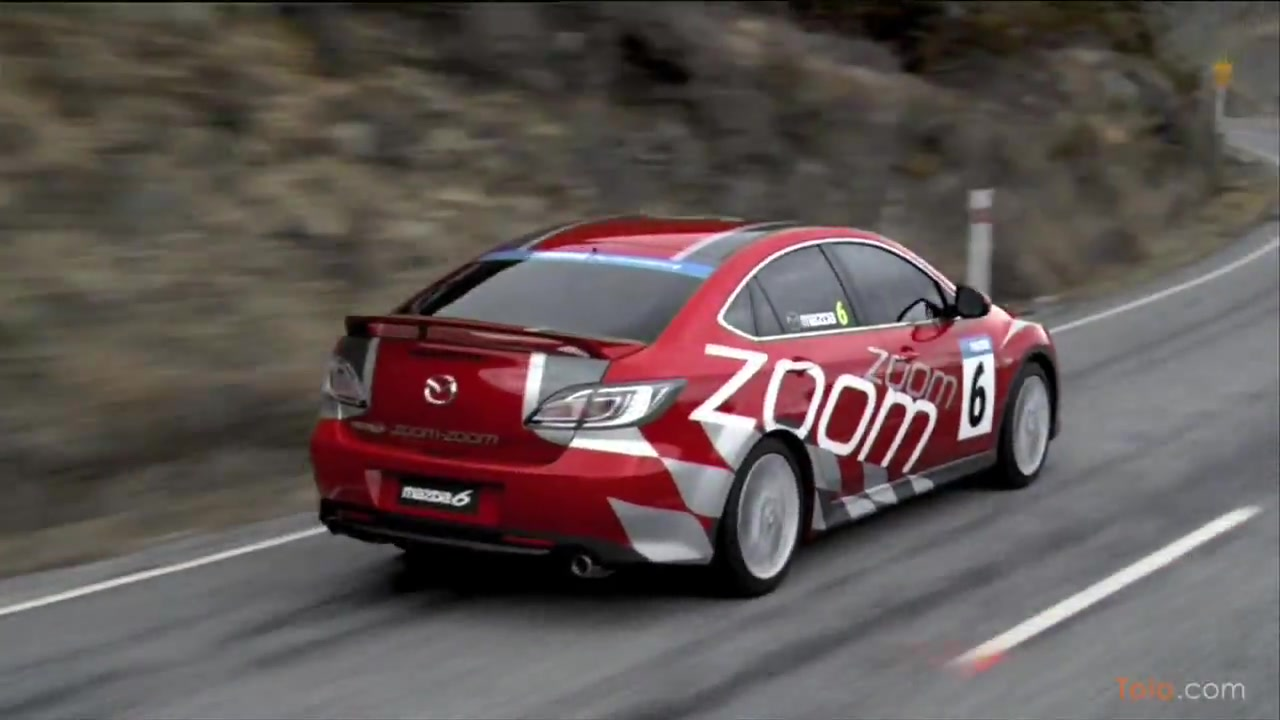car: (308, 203, 1065, 603)
